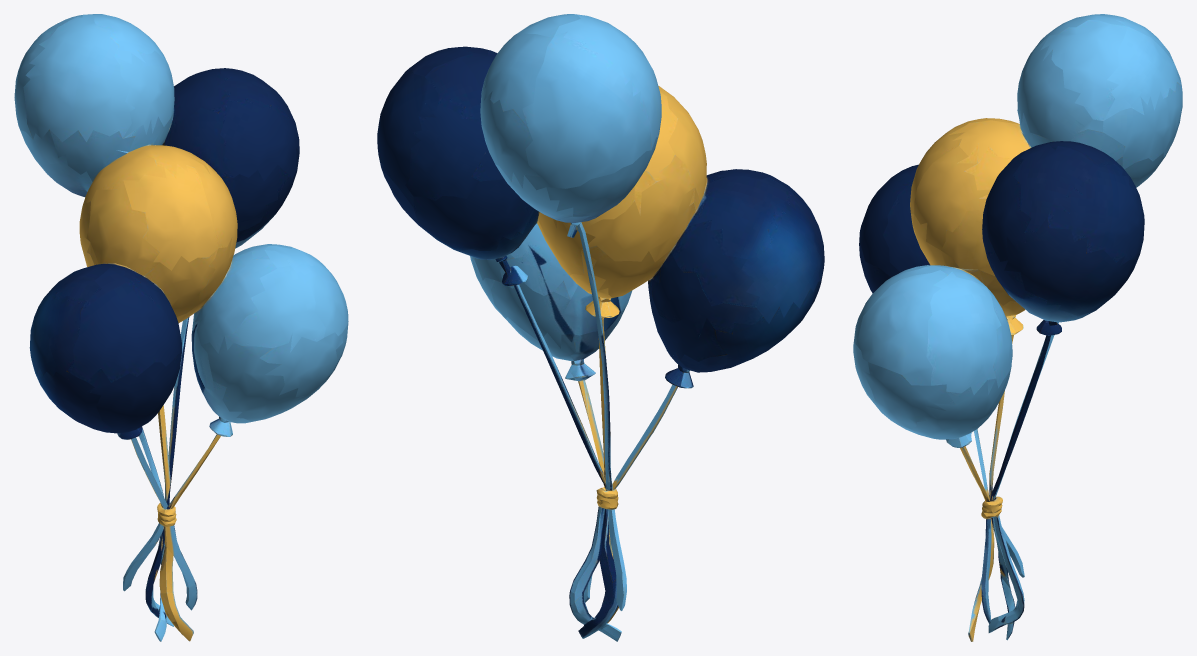
Rendered from acc_balloons.glb.
3 views of the same model, side by side, from view 1: azimuth 30°, elevation 25°; view 2: azimuth 150°, elevation 25°; view 3: azimuth 270°, elevation 25° (orthographic). The views are drawn at different scales.
Parts seen in each view (by area): view 1: Mesh_0; view 2: Mesh_0; view 3: Mesh_0.
Part boxes in pixels (box(x1,y1,x2,y2)): Mesh_0: box(14, 14, 348, 641); Mesh_0: box(377, 14, 824, 641); Mesh_0: box(853, 14, 1182, 641).
Size of the model in its own units: 1.05 by 1.9 by 0.9361.
1 material, 1 textured.
